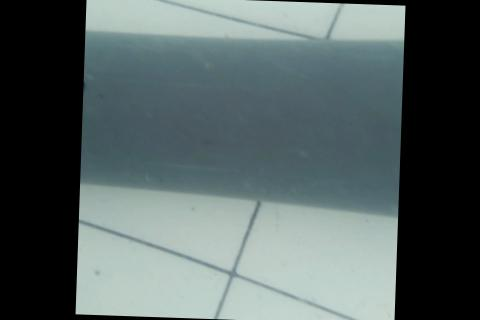kebocoran: (81, 76, 88, 126)
